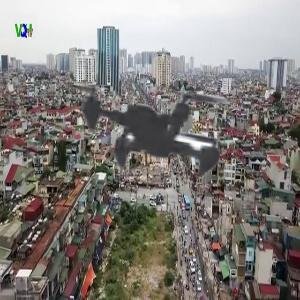drone: (9, 1, 297, 289)
